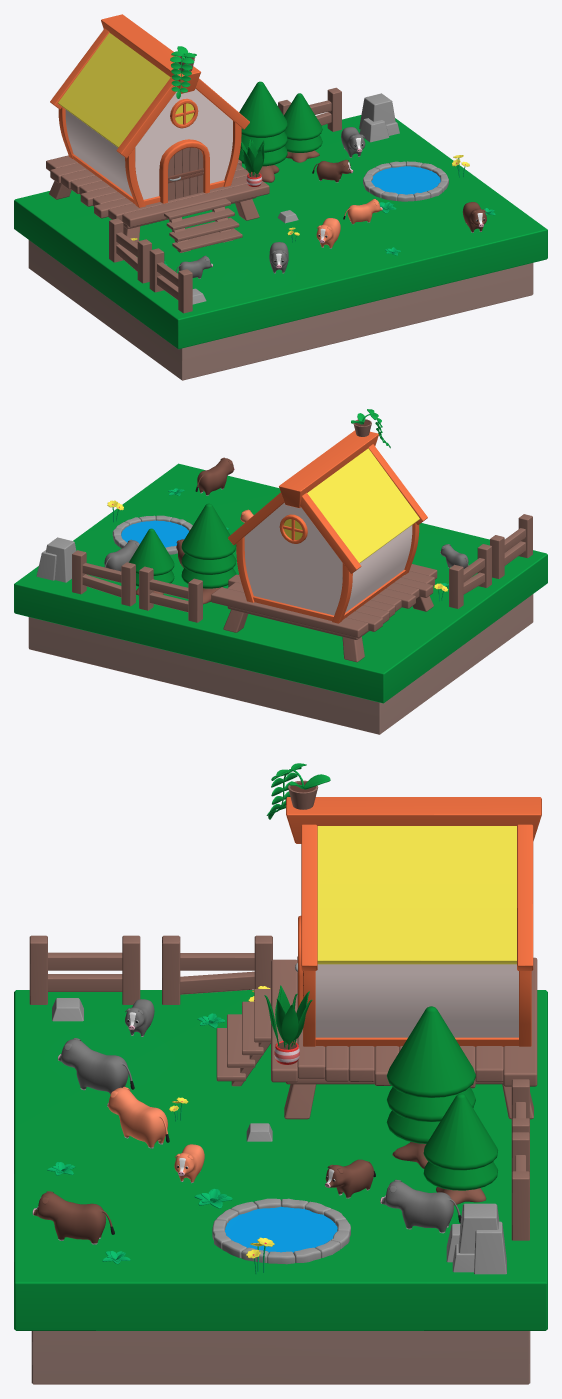
File: Farm_Island_6.glb
3 renders of one model, top to bottom at view 1: azimuth 30°, elevation 25°; view 2: azimuth 150°, elevation 25°; view 3: azimuth 270°, elevation 25°, orthographic. The views are drawn at different scales.
Parts seen in each view (by area): view 1: Farm_6_Base_1, Farm_6_Pig_House_1, Farm_6_Platform_1, Farm_6_Tree_1, Farm_6_Lake_1, Farm_6_Tree_2, Farm_6_Fence_3, Farm_6_Fence_4, Farm_6_Stone_2, Farm_6_Fence_2, Farm_6_Plant_7, Farm_6_Plant_1 (+6 smaller); view 2: Farm_6_Base_1, Farm_6_Pig_House_1, Farm_6_Platform_1, Farm_6_Tree_1, Farm_6_Fence_2, Farm_6_Fence_1, Farm_6_Lake_1, Farm_6_Fence_4, Farm_6_Fence_3, Farm_6_Tree_2, Farm_6_Stone_2, Farm_6_Pig_4 (+3 smaller); view 3: Farm_6_Base_1, Farm_6_Pig_House_1, Farm_6_Platform_1, Farm_6_Tree_1, Farm_6_Lake_1, Farm_6_Tree_2, Farm_6_Fence_3, Farm_6_Fence_4, Farm_6_Stone_2, Farm_6_Pig_4, Farm_6_Pig_1, Farm_6_Pig_7 (+8 smaller).
Part boxes in pixels (box(x1,y1,x2,y2)): Farm_6_Base_1: box(14, 115, 547, 380); Farm_6_Pig_House_1: box(50, 14, 249, 207); Farm_6_Platform_1: box(46, 155, 269, 252); Farm_6_Tree_1: box(238, 81, 287, 182); Farm_6_Lake_1: box(363, 161, 448, 201); Farm_6_Tree_2: box(284, 93, 322, 162); Farm_6_Fence_3: box(149, 248, 192, 313); Farm_6_Fence_4: box(109, 218, 151, 283); Farm_6_Stone_2: box(359, 93, 399, 142); Farm_6_Fence_2: box(278, 87, 341, 131); Farm_6_Plant_7: box(170, 46, 196, 98); Farm_6_Plant_1: box(241, 139, 264, 186); Farm_6_Base_1: box(14, 463, 547, 734); Farm_6_Pig_House_1: box(228, 430, 427, 623); Farm_6_Platform_1: box(211, 564, 437, 662); Farm_6_Tree_1: box(181, 503, 236, 604); Farm_6_Fence_2: box(72, 550, 135, 606); Farm_6_Fence_1: box(139, 566, 202, 622); Farm_6_Lake_1: box(112, 515, 192, 554); Farm_6_Fence_4: box(449, 544, 491, 608); Farm_6_Fence_3: box(490, 514, 532, 578); Farm_6_Tree_2: box(129, 528, 174, 595); Farm_6_Stone_2: box(36, 537, 76, 582); Farm_6_Pig_4: box(195, 457, 234, 495); Farm_6_Base_1: box(14, 990, 547, 1384); Farm_6_Pig_House_1: box(286, 797, 541, 1046); Farm_6_Platform_1: box(216, 956, 537, 1119); Farm_6_Tree_1: box(386, 1006, 475, 1168); Farm_6_Lake_1: box(212, 1198, 350, 1264); Farm_6_Tree_2: box(423, 1093, 497, 1205); Farm_6_Fence_3: box(29, 935, 140, 1004); Farm_6_Fence_4: box(162, 935, 272, 1004); Farm_6_Stone_2: box(446, 1203, 506, 1274); Farm_6_Pig_4: box(32, 1191, 114, 1244); Farm_6_Pig_1: box(380, 1179, 461, 1233); Farm_6_Pig_7: box(58, 1038, 134, 1094).
Bounding box in the file's own units: 14.56 × 9.36 × 11.2.
29 materials, 29 textured.
